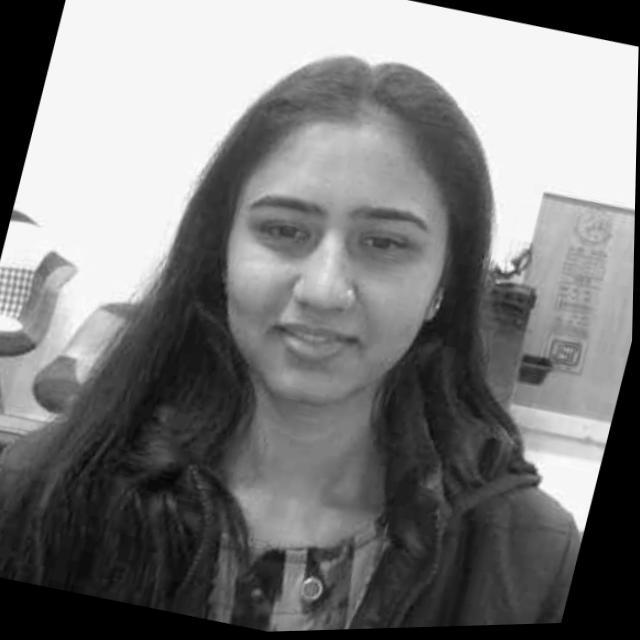Puffy Eyes - v3 Dark Circle: (260, 232, 327, 260)
